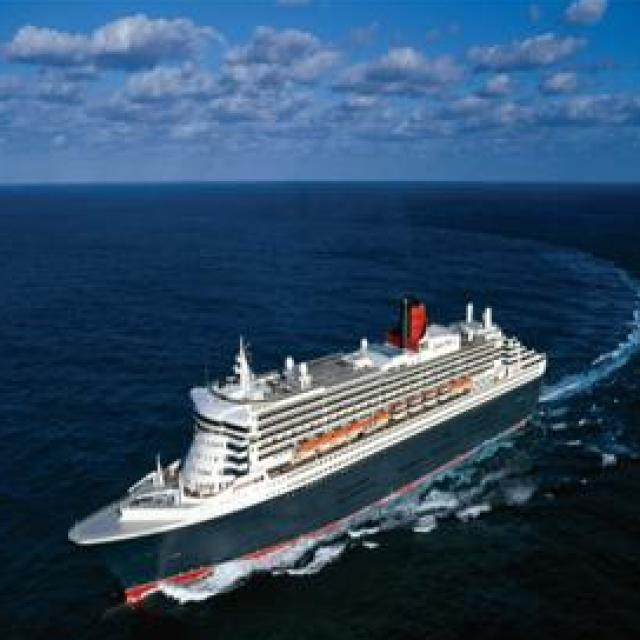passenger ship: (72, 292, 551, 593)
